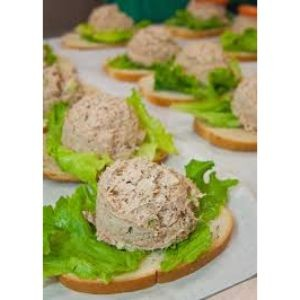tuna_brain food: (83, 156, 201, 259), (70, 2, 186, 54), (52, 90, 141, 148)
